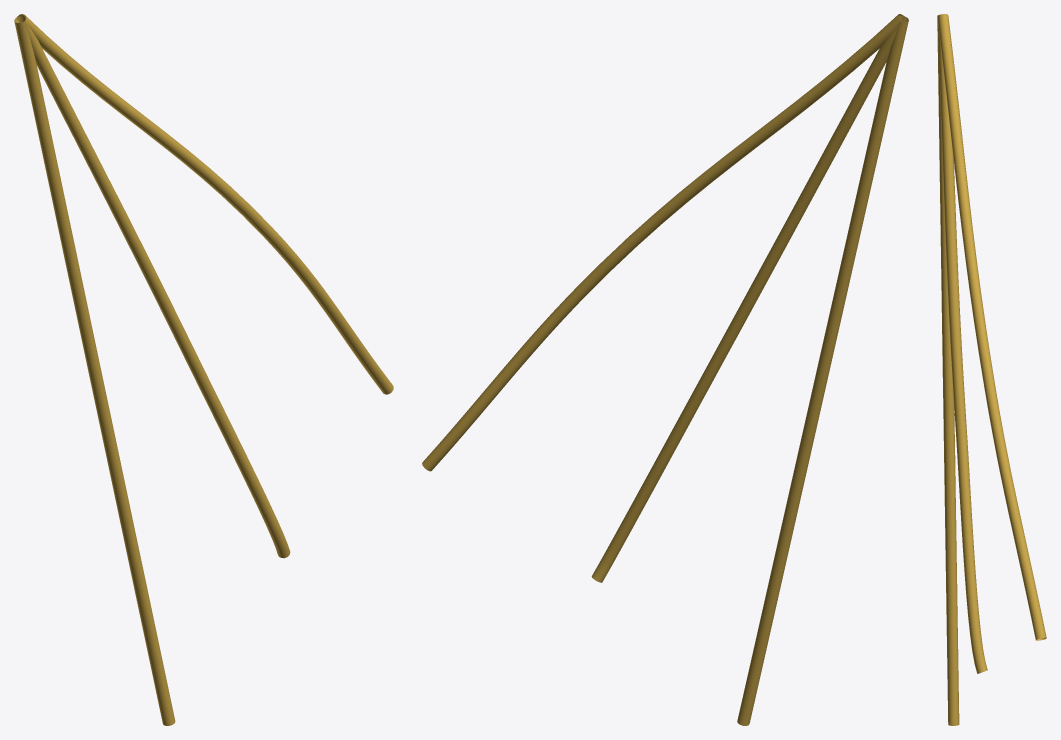
3 views of the same model, side by side, from view 1: azimuth 30°, elevation 25°; view 2: azimuth 150°, elevation 25°; view 3: azimuth 270°, elevation 25° (orthographic). The views are drawn at different scales.
Parts seen in each view (by area): view 1: 左侧足底外侧神经趾足底总神经; view 2: 左侧足底外侧神经趾足底总神经; view 3: 左侧足底外侧神经趾足底总神经.
Part boxes in pixels (x1,y1,x2,y2): 左侧足底外侧神经趾足底总神经: (14,14,393,725); 左侧足底外侧神经趾足底总神经: (422,14,908,725); 左侧足底外侧神经趾足底总神经: (937,14,1046,725).
Bounding box in the file's own units: 0.0574 × 0.0947 × 0.0145.
